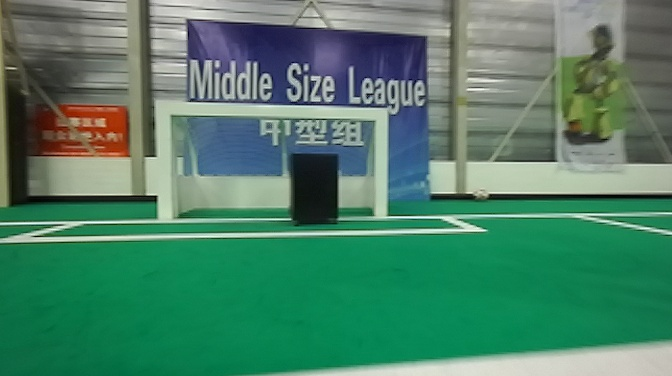goalpost: (149, 99, 185, 221), (373, 106, 392, 218)
